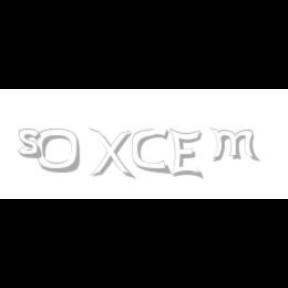C: (132, 128, 170, 174)
E: (170, 128, 202, 180)
O: (36, 128, 82, 174)
X: (89, 128, 133, 180)
m: (209, 128, 261, 162)
s: (18, 128, 46, 160)
